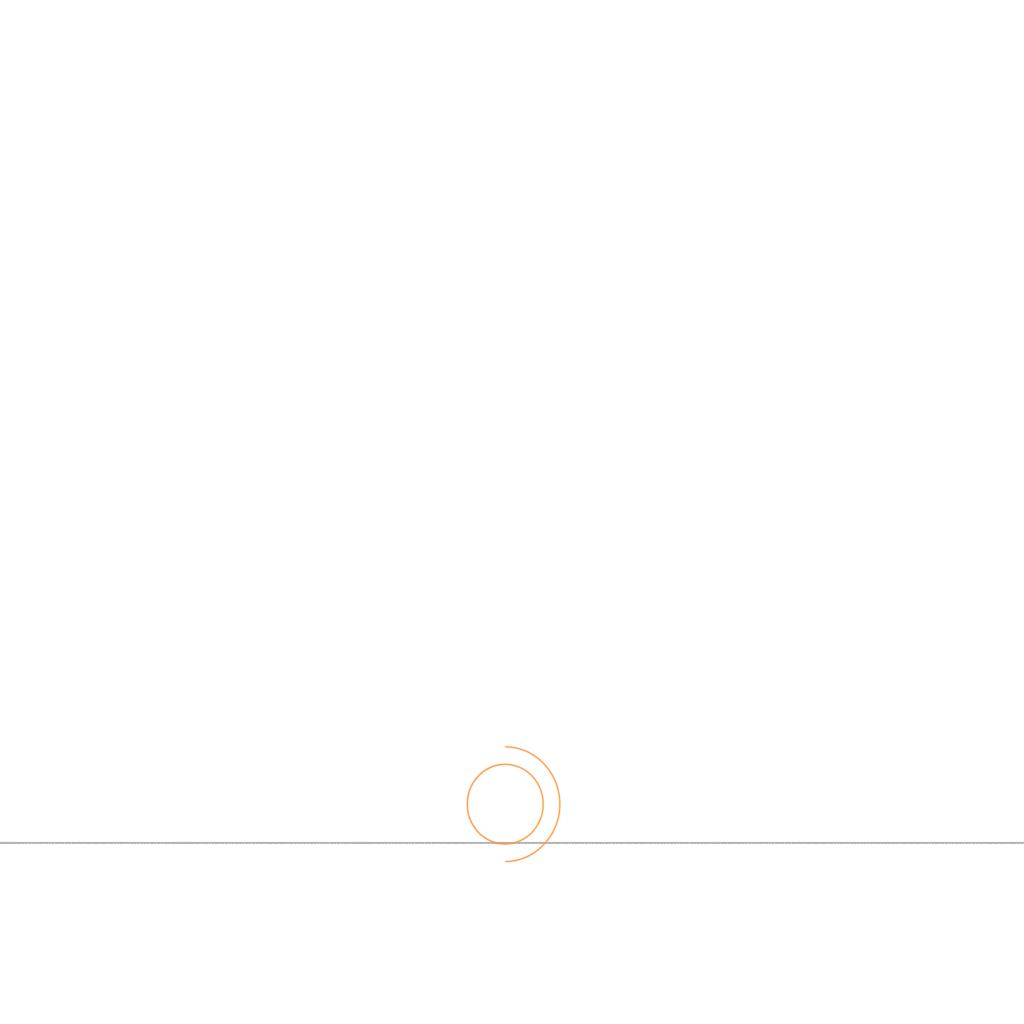Scheinwerfer_fuer_Alarmbeleuchtung: (454, 735, 566, 867)
